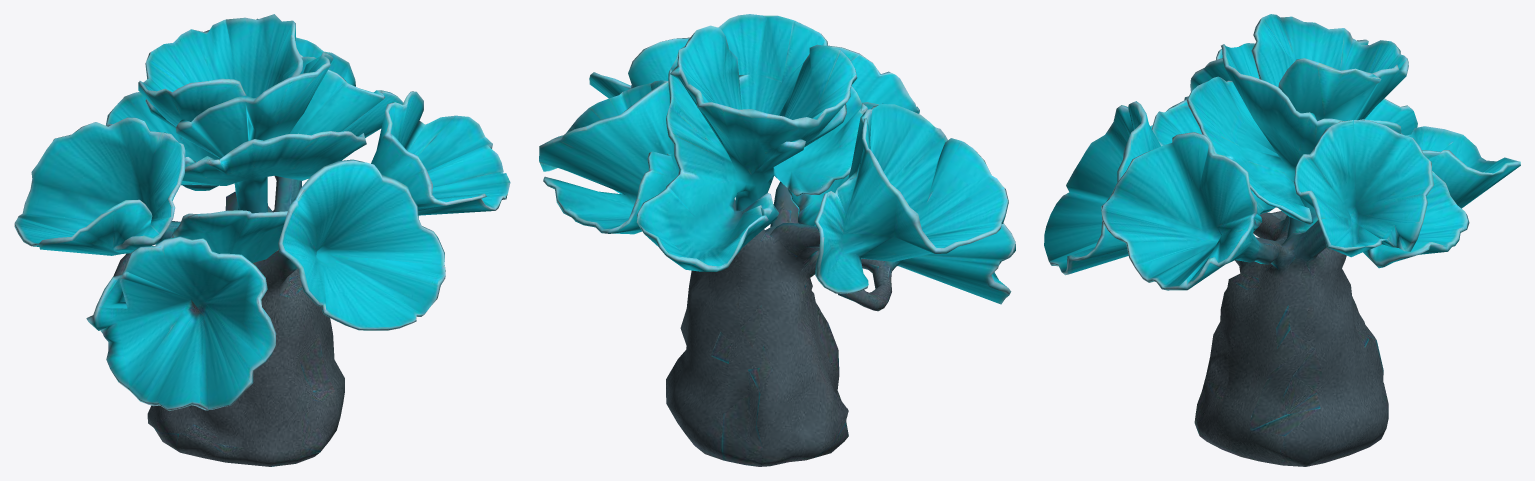
File: coral-plates.glb
The picture shows the model from 3 angles, left to right: view 1: azimuth 30°, elevation 25°; view 2: azimuth 150°, elevation 25°; view 3: azimuth 270°, elevation 25°; orthographic projection. The views are drawn at different scales.
Bounding box in the file's own units: 0.9614 × 0.8237 × 0.896.
Materials: 1 (1 with a texture image).
